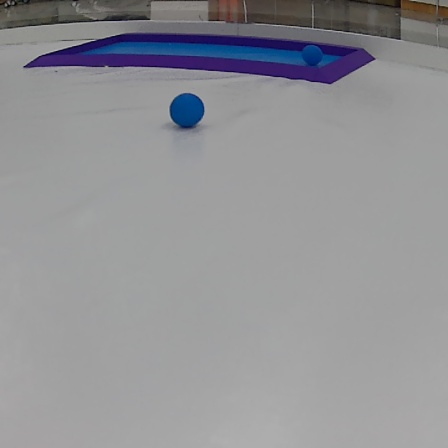blue: (169, 91, 204, 125), (297, 46, 326, 66)
blue_aim: (23, 27, 377, 86)
